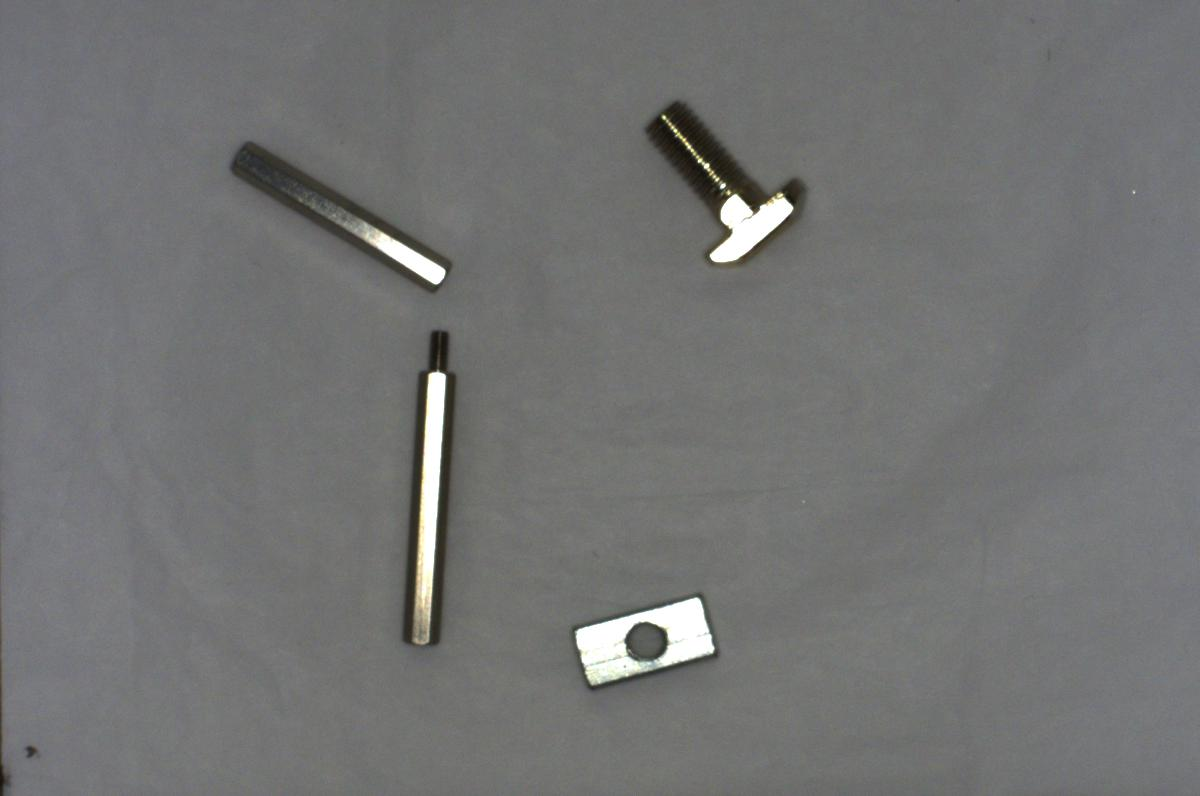Double hexagonal column: (221, 133, 458, 299)
Hexagonal steel column: (400, 319, 457, 661)
Rectangular nut: (572, 589, 721, 690)
T-shaped screw: (645, 99, 814, 272)
